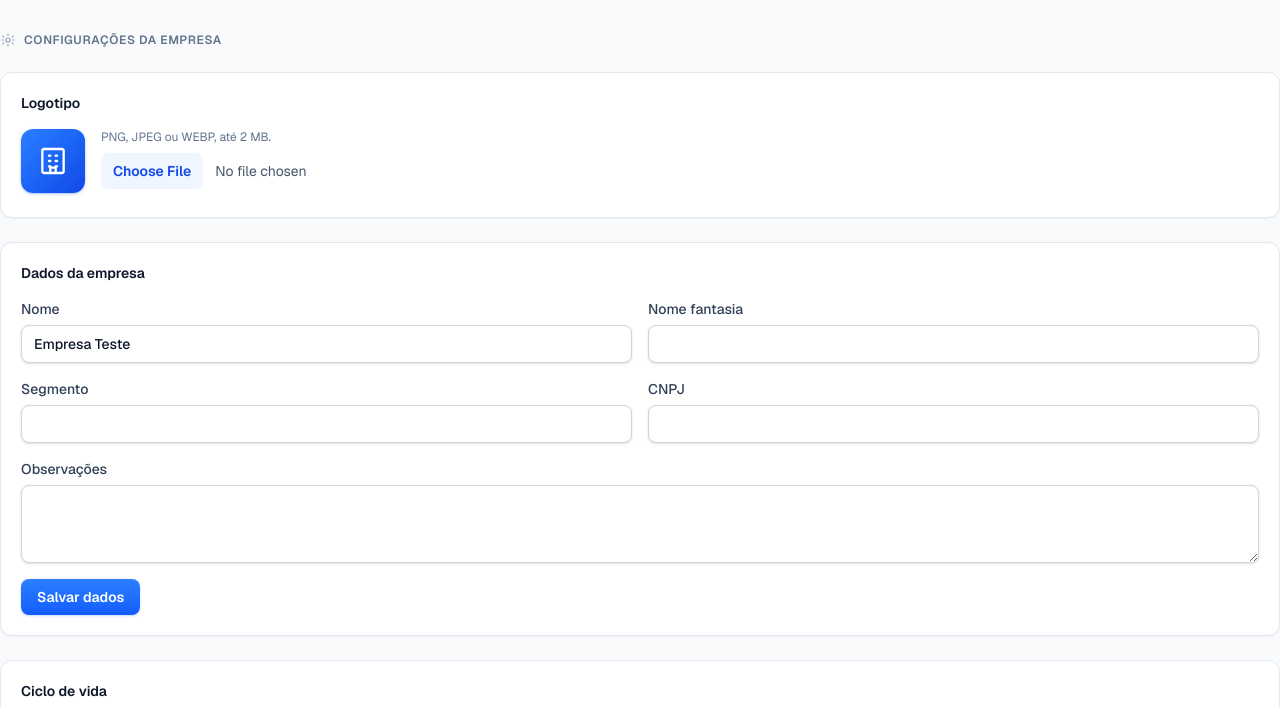
Test case: OrganizationSettingsPage › salva os dados cadastrais via PATCH e propaga a resposta pro contexto
The width and height of the screenshot is (1280, 707).
Replace the text in the field labelled "Nome" with "Novo Nome" at coordinates (326, 344), box [21,325,632,363]
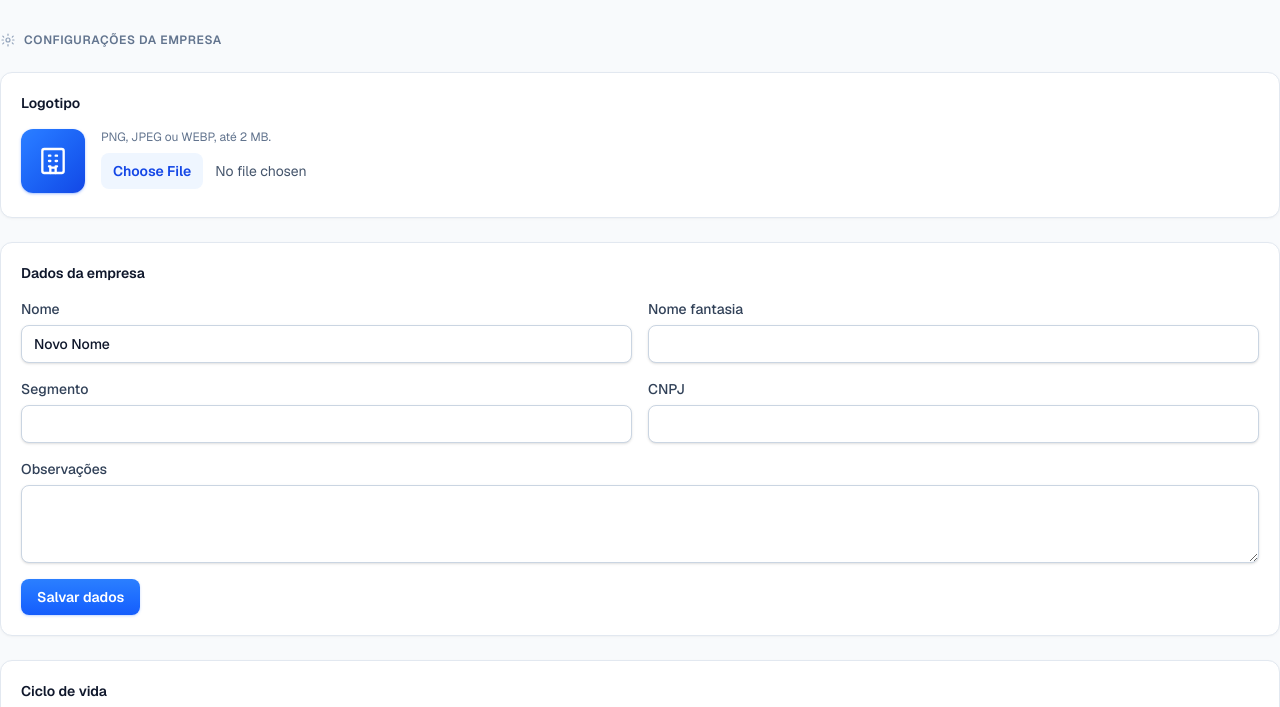
Click the button "Salvar dados" at coordinates (81, 597), box [21,579,140,615]
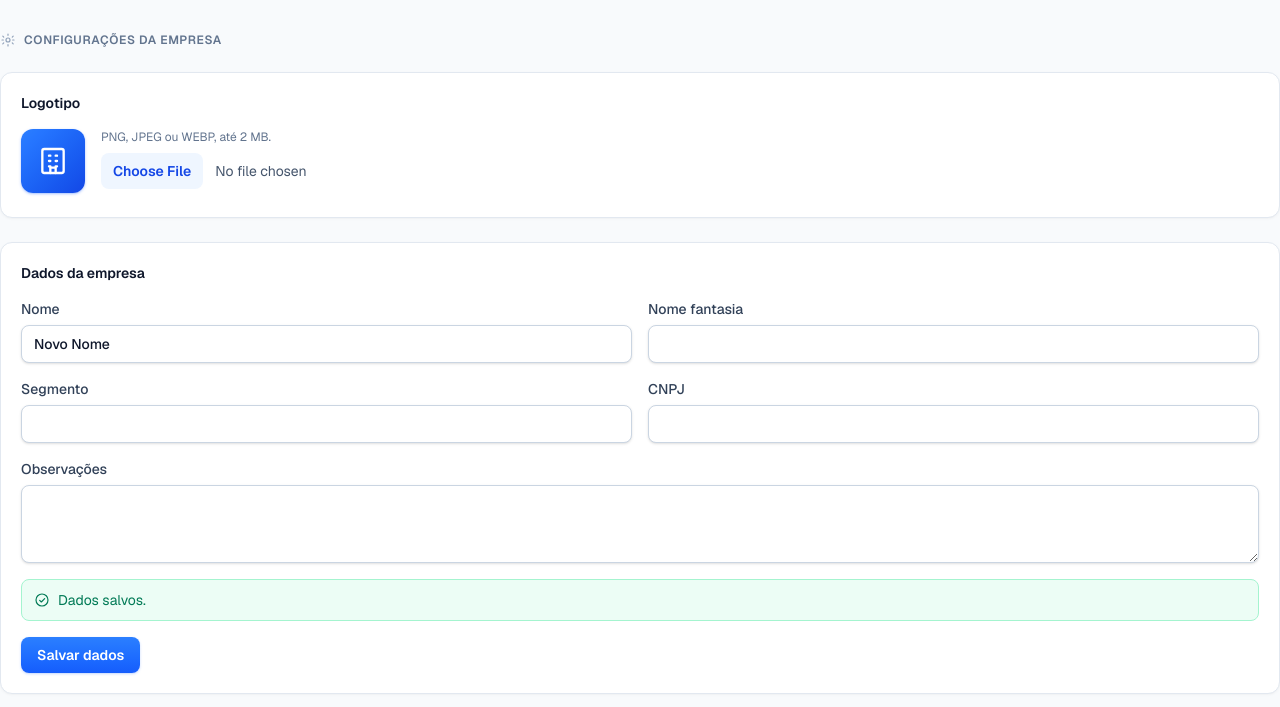
expect the text "Dados salvos." is shown: met, box [58,590,146,610]
